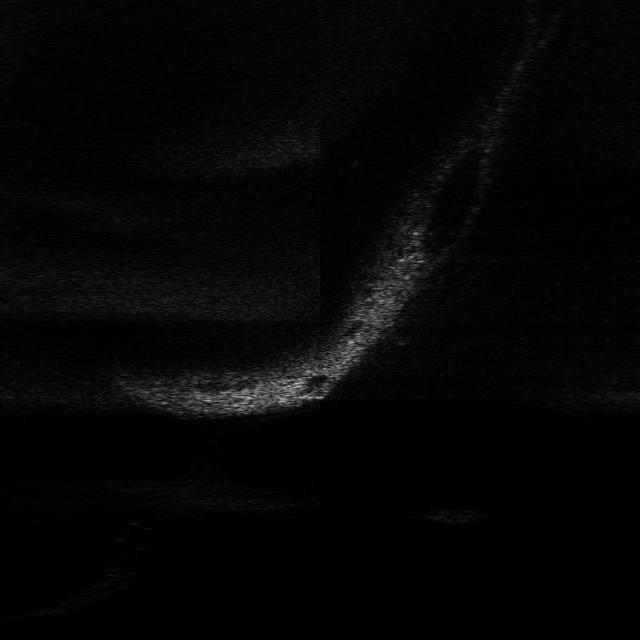cube: (424, 504, 484, 526)
